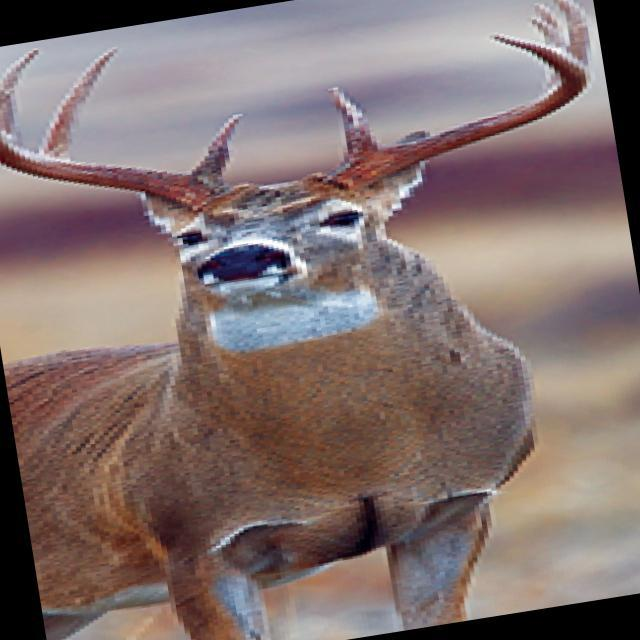L-F: (315, 34, 590, 193)
L-G1: (330, 87, 383, 166)
R-F: (0, 90, 239, 210)
R-G1: (184, 113, 246, 186)
R-G2: (41, 46, 118, 160)
